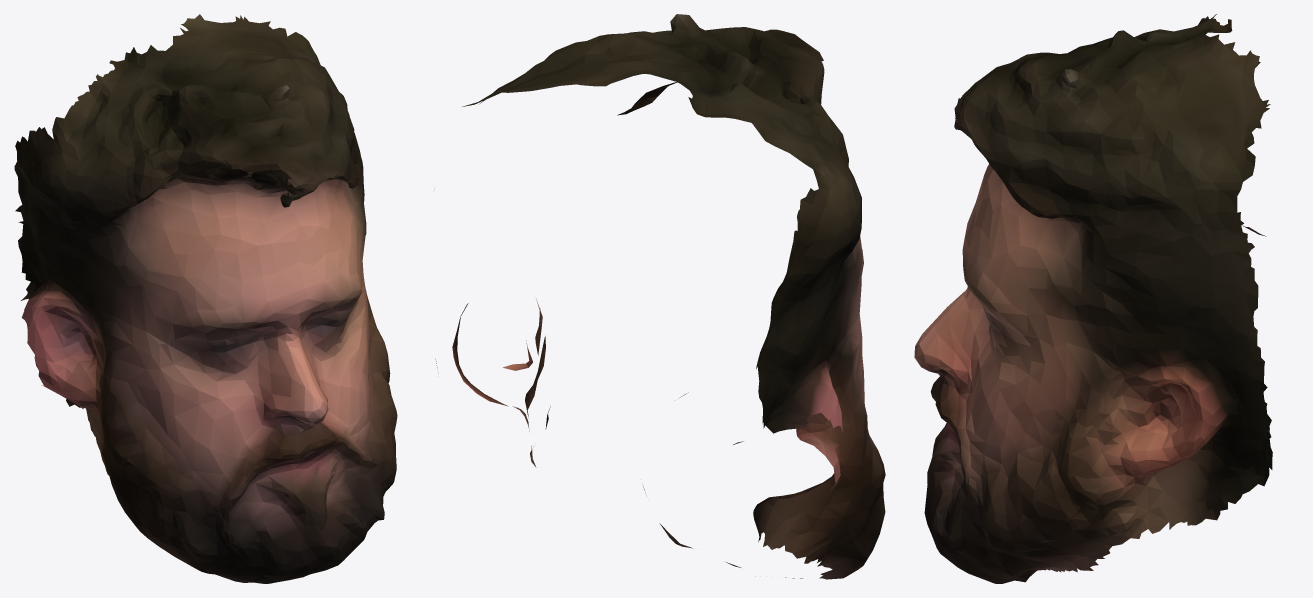
The model's file is collin-garvey-face-scan.glb.
The picture shows the model from 3 angles, left to right: view 1: azimuth 30°, elevation 25°; view 2: azimuth 150°, elevation 25°; view 3: azimuth 270°, elevation 25°; orthographic projection. The views are drawn at different scales.
Visible parts, largest first — view 1: fixed-mesh; view 2: fixed-mesh; view 3: fixed-mesh.
Part boxes in pixels (<box>): fixed-mesh: <box>14,14,397,583</box>; fixed-mesh: <box>434,14,885,579</box>; fixed-mesh: <box>914,14,1272,583</box>.
Size of the model in its own units: 1.25 by 1.8 by 1.18.
